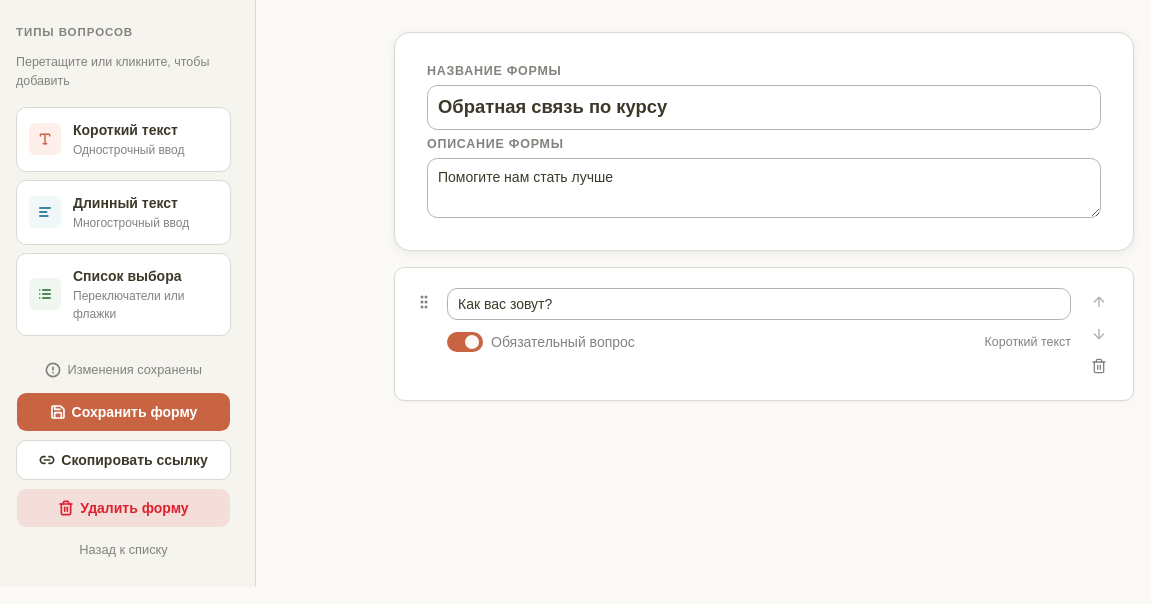
Test: FormBuilderPage › «Скопировать ссылку» копирует URL и показывает inline-уведомление
Expected: the field labelled "Название формы" is shown, [427,86,1101,130]
Click the button "Скопировать ссылку".
click(124, 460)  # box [16,440,231,480]
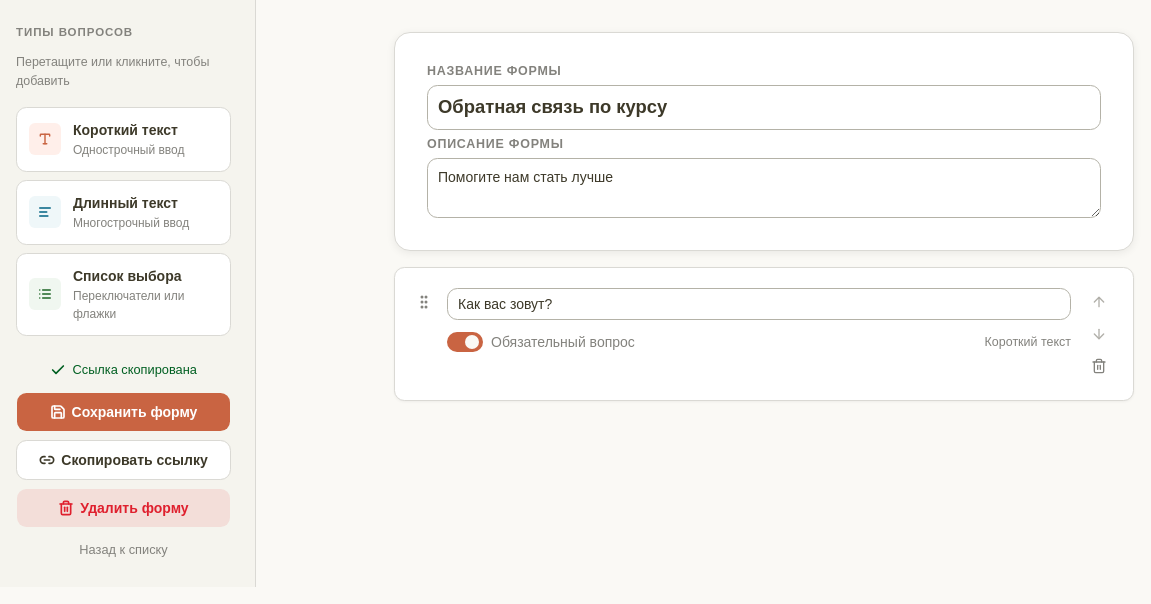
Result: the text "Ссылка скопирована" is shown at [50,362,197,378]
